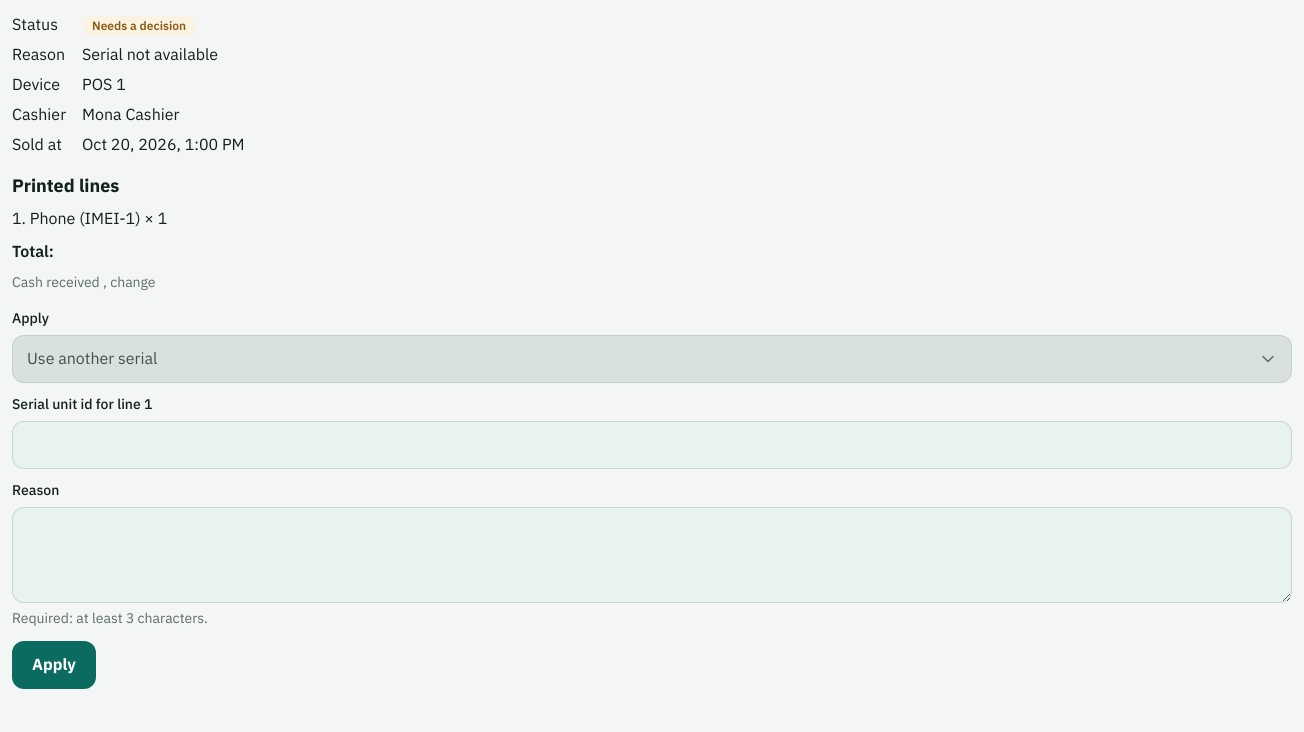
it: W10 the review page (D11) › the reason is required
Type "0b8a2f00-0000-4000-8000-000000000022" into the field with test id "offline-unit-1" at point(652, 445), box [12,421,1292,469]
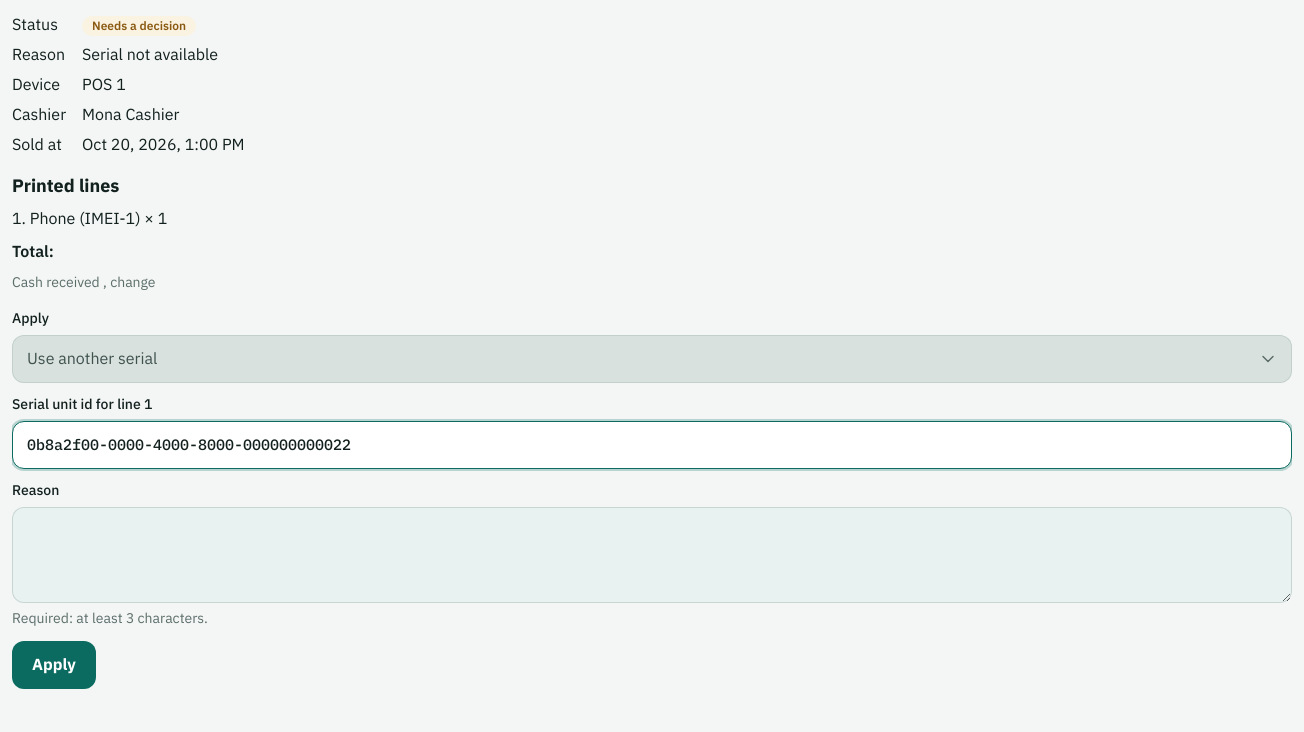
Click the button with test id "offline-resolve" at point(54, 665), box [12,641,96,689]
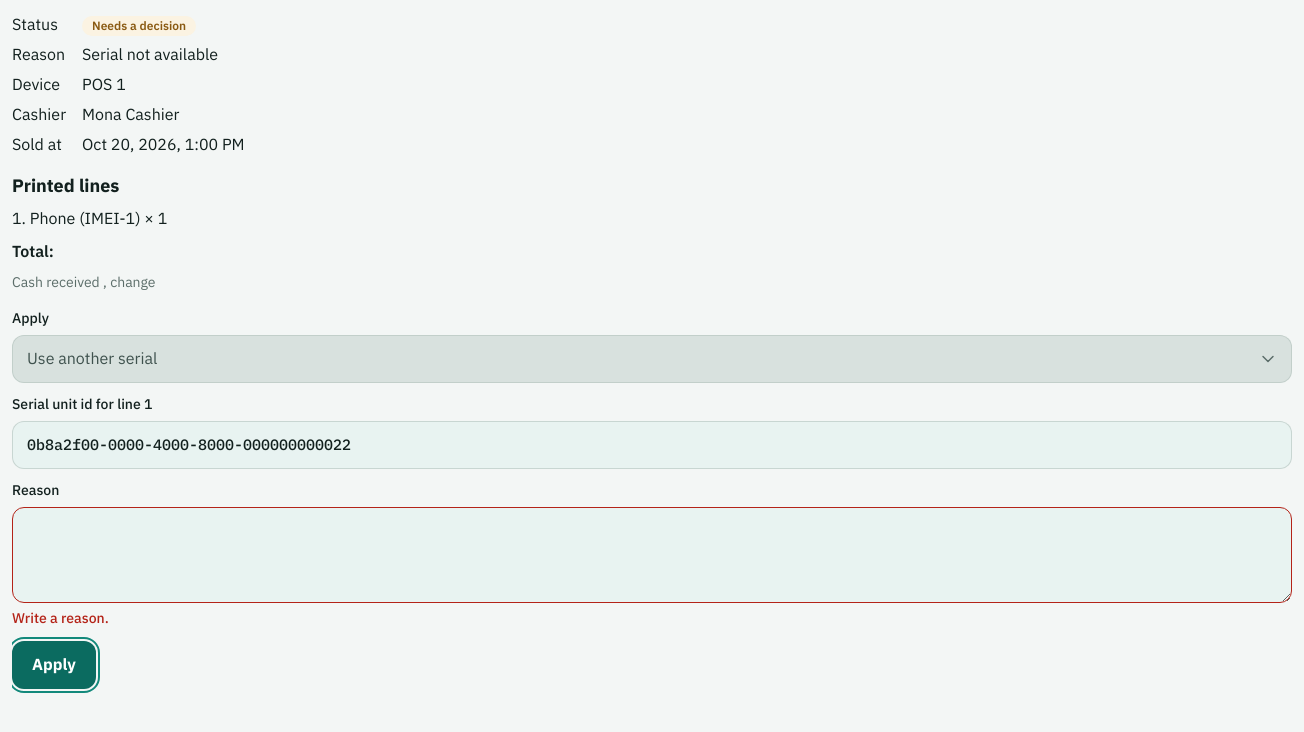
Result: the text "Write a reason." is shown at [12,608,109,629]
